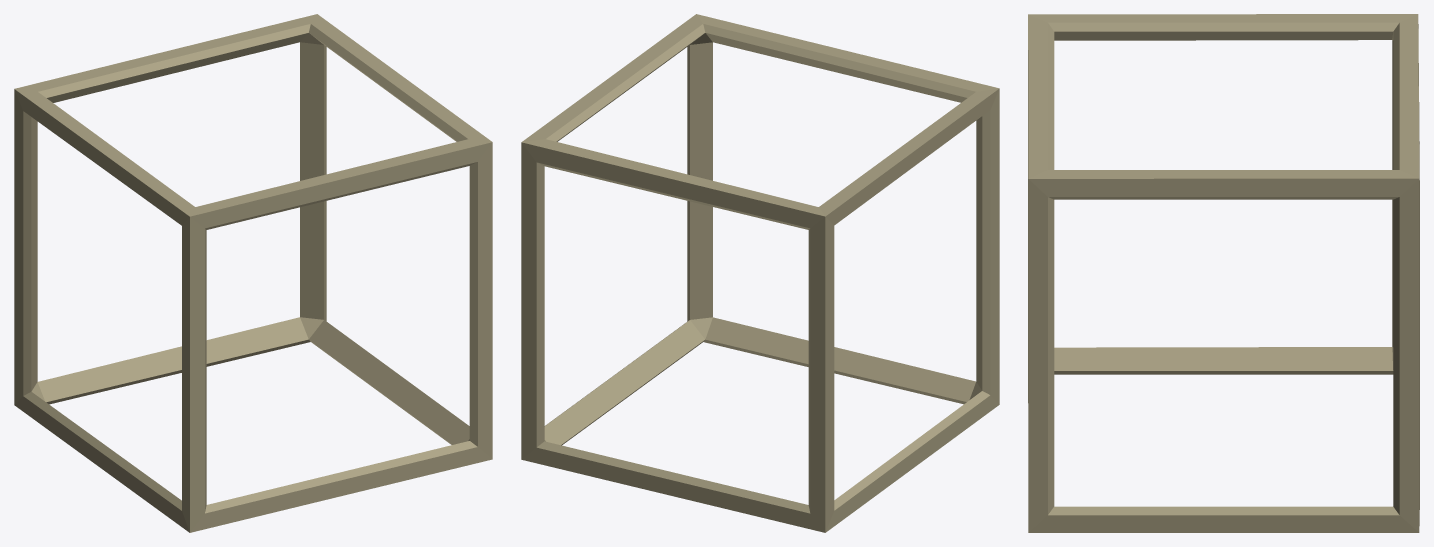
The model's file is Glass container.fbx.
3 views of the same model, side by side, from view 1: azimuth 30°, elevation 25°; view 2: azimuth 150°, elevation 25°; view 3: azimuth 270°, elevation 25° (orthographic). The views are drawn at different scales.
Visible parts, largest first — view 1: Cube.002; view 2: Cube.002; view 3: Cube.002.
Part boxes in pixels (left/top/right/bottom): Cube.002: left=14, top=14, right=492, bottom=532; Cube.002: left=521, top=14, right=999, bottom=532; Cube.002: left=1028, top=14, right=1419, bottom=532.
Size of the model in its own units: 400 by 400 by 400.
